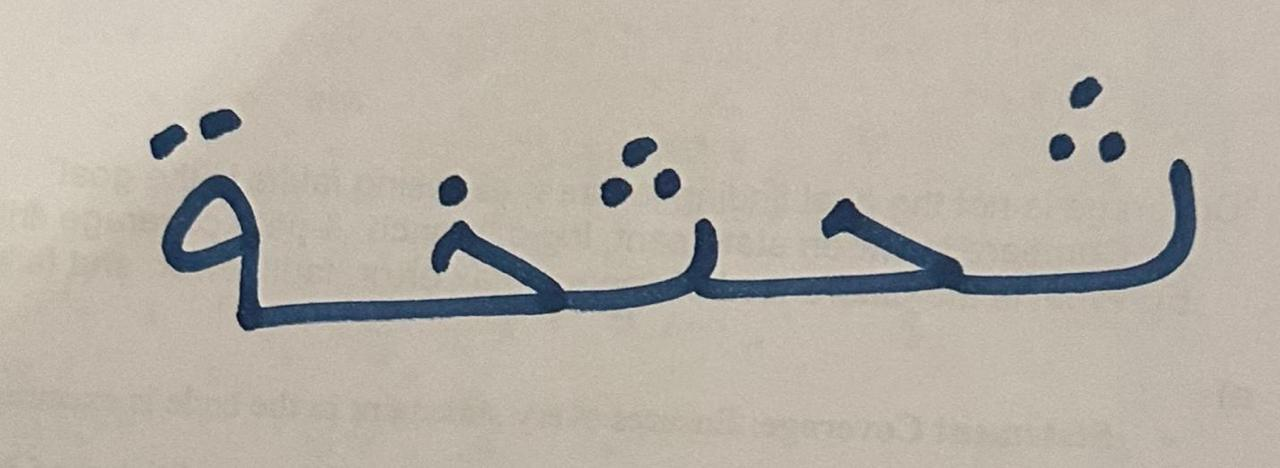hah: (766, 110, 988, 348)
lam: (337, 134, 582, 342)
thal: (120, 56, 334, 361)
waw: (991, 40, 1232, 354), (585, 100, 763, 331)
